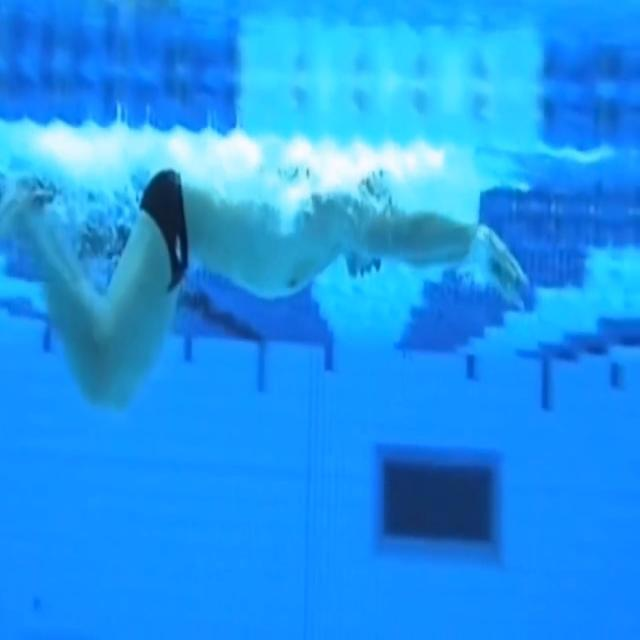Swimming: (1, 167, 533, 408)
